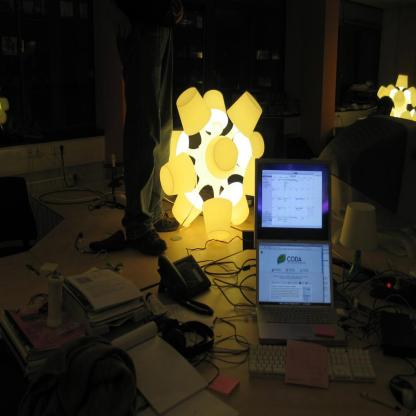board: (256, 239, 345, 342), (146, 290, 168, 317)
